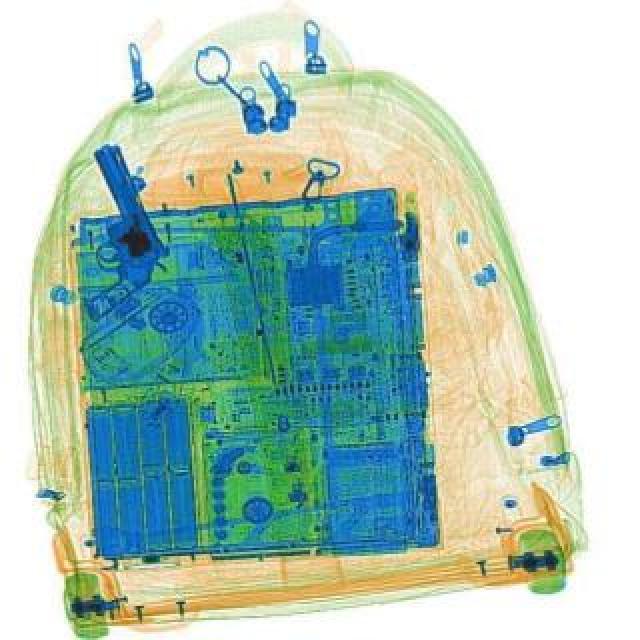gun: (22, 142, 184, 322)
